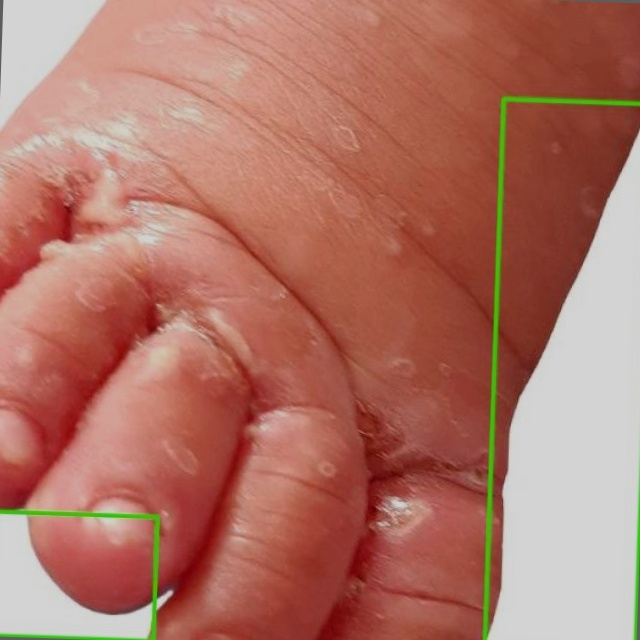Scabies: (484, 98, 639, 639), (0, 511, 158, 639)
